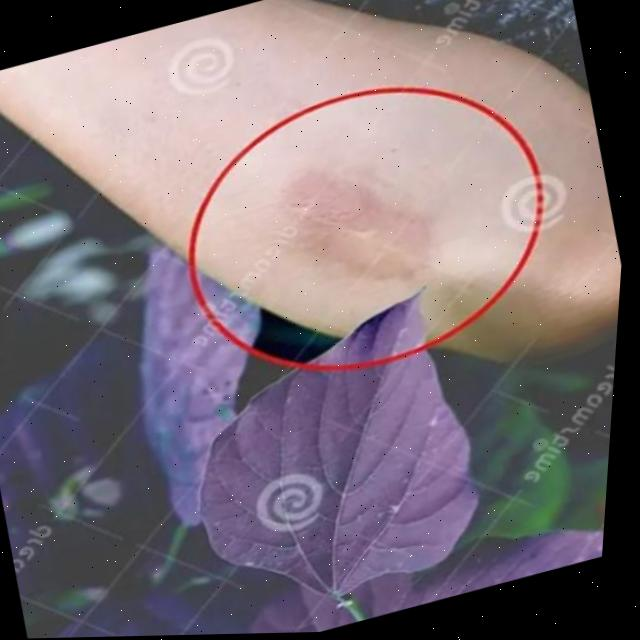Eczema: (302, 168, 424, 278)
